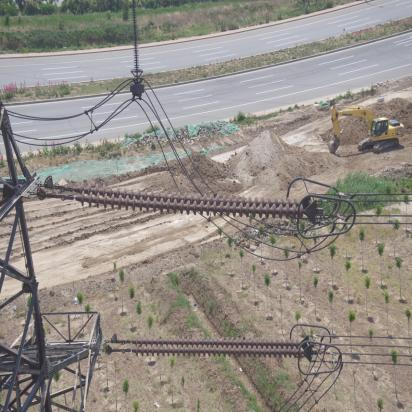insulator: (65, 182, 310, 224), (124, 336, 309, 363)
